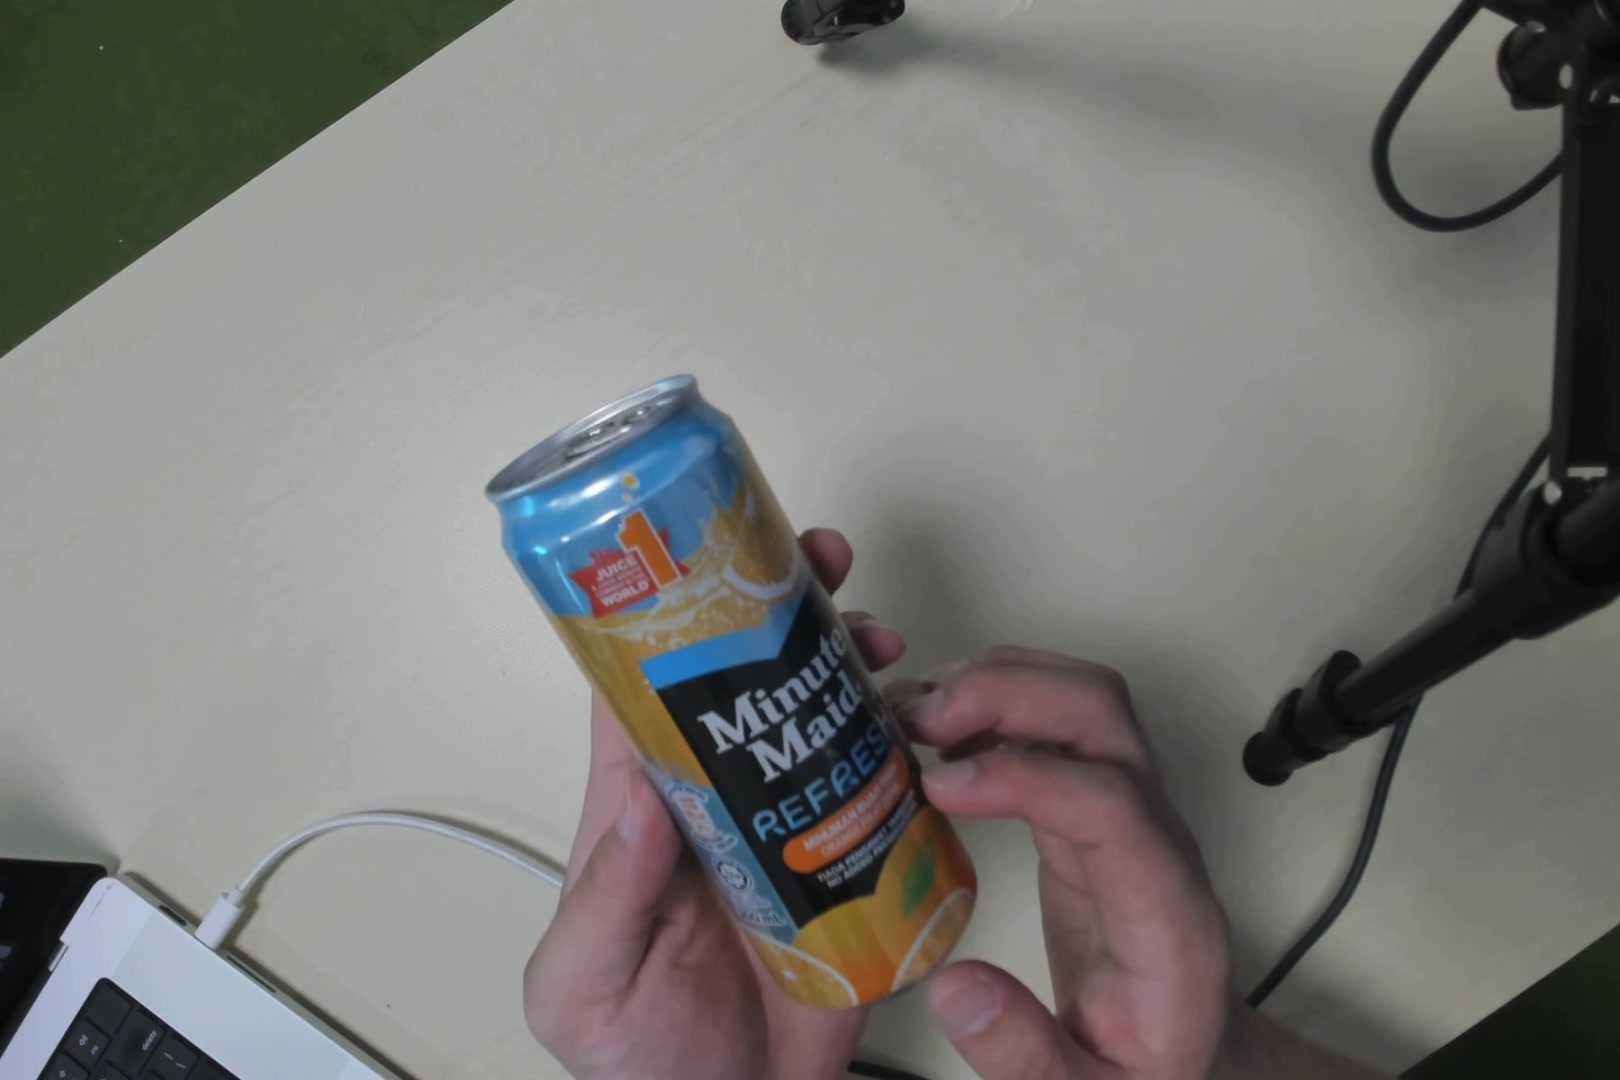SoftDrinks_200-299g_Halal_Healthy: (588, 438, 965, 992)
